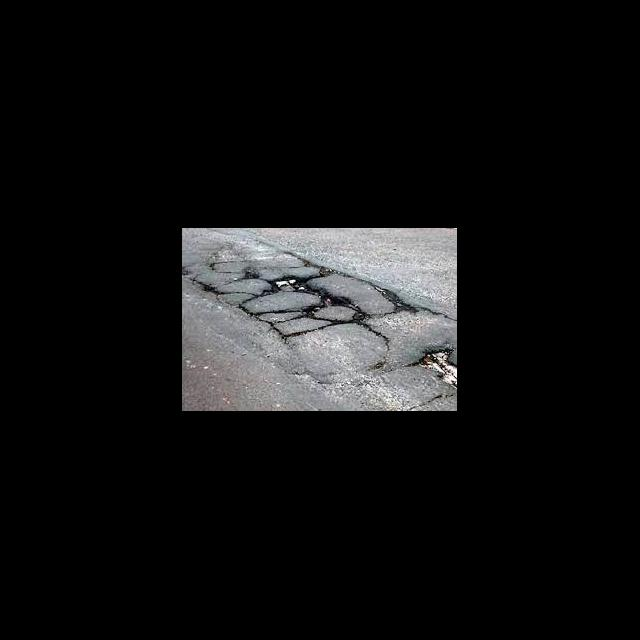lubang_kecil: (397, 332, 458, 390)
retak_kulit_buaya: (187, 247, 384, 340)
